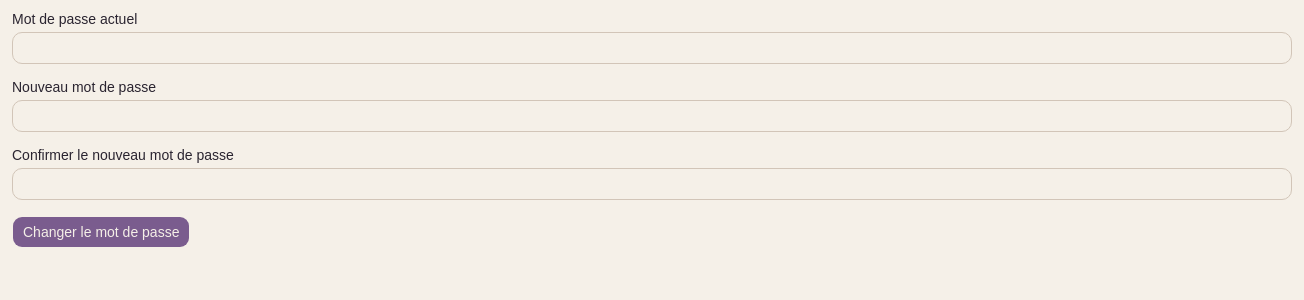
Test case: PasswordForm › shows a wrong current password and keeps the fields
Type "wrongpass1" into the password field labelled "Mot de passe actuel". click: {"x": 652, "y": 48}
box: [12, 32, 1292, 64]
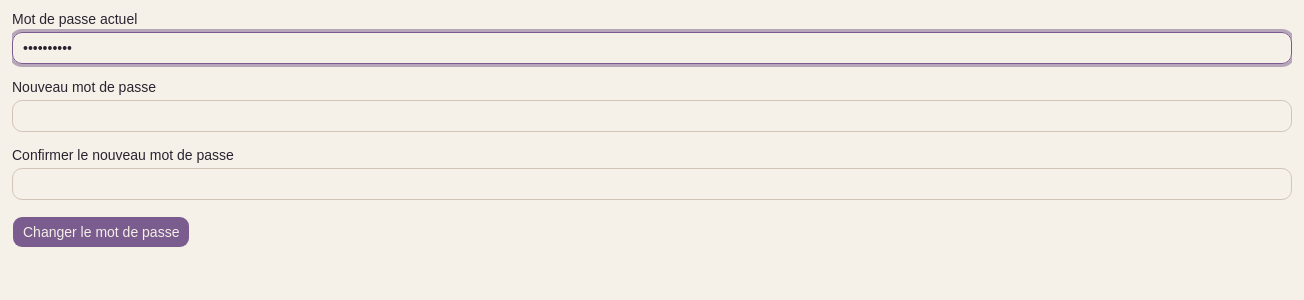
Type "newpass123" into the password field labelled "Nouveau mot de passe". click: {"x": 652, "y": 116}
box: [12, 100, 1292, 132]
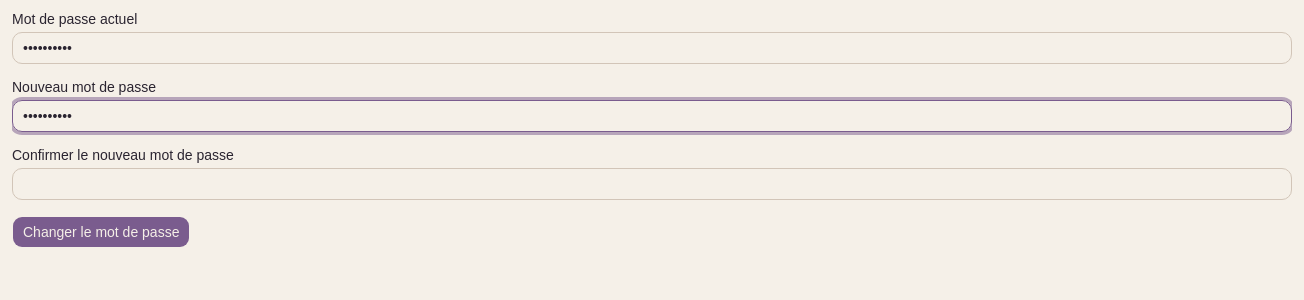
Type "newpass123" into the password field labelled "Confirmer le nouveau mot de passe". click: {"x": 652, "y": 184}
box: [12, 168, 1292, 200]
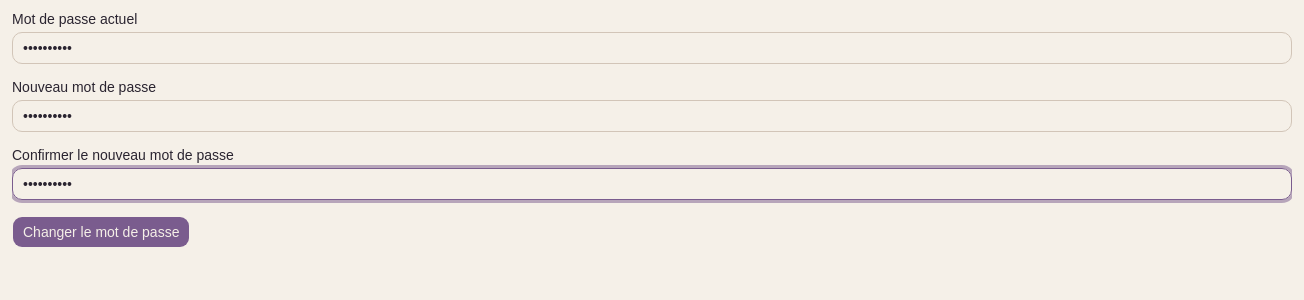
Click the button "Changer le mot de passe". click: {"x": 101, "y": 232}
box: [12, 216, 190, 248]
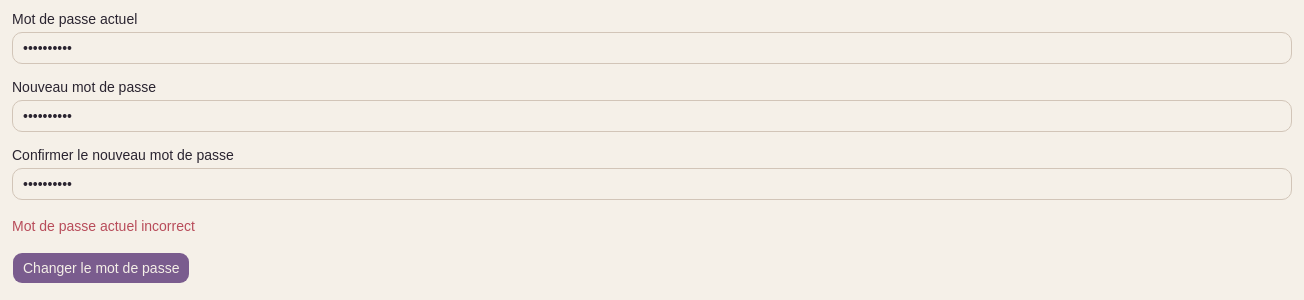
Check: the message reads "Mot de passe actuel incorrect", box [12, 218, 195, 234]
